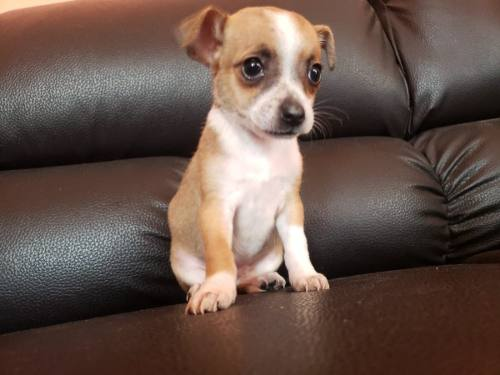chihuahua: (159, 1, 349, 322)
